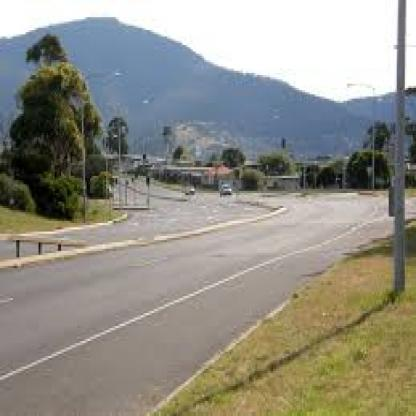car: (216, 174, 239, 203)
